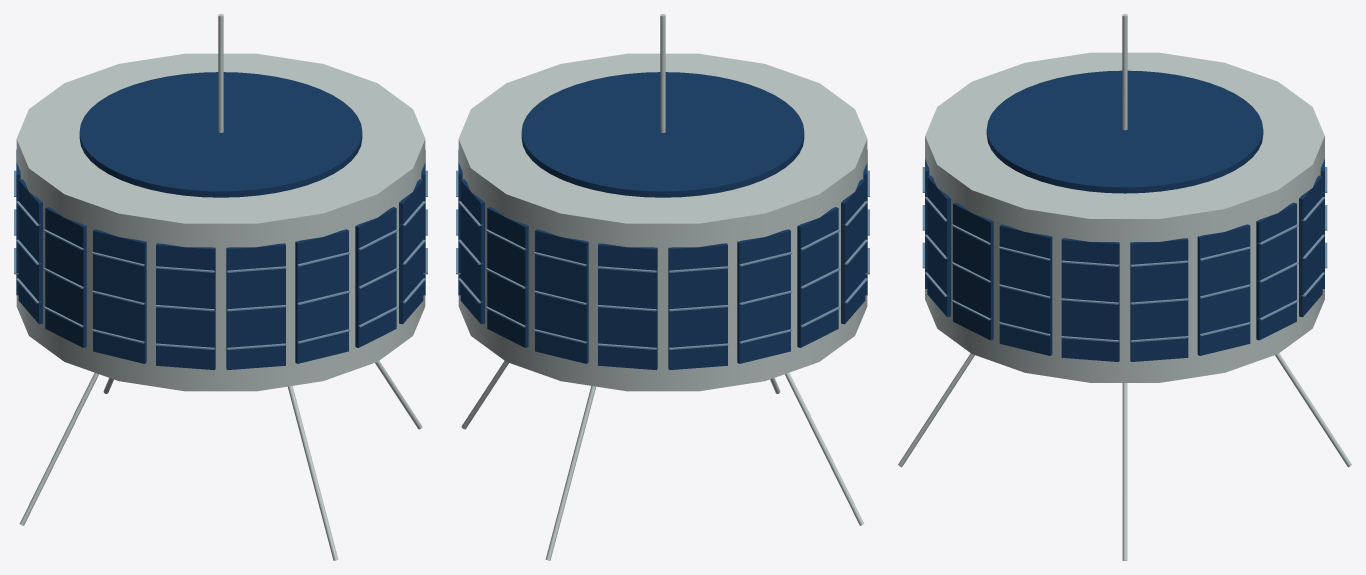
File: tiros-1.glb
3 views of the same model, side by side, from view 1: azimuth 30°, elevation 25°; view 2: azimuth 150°, elevation 25°; view 3: azimuth 270°, elevation 25° (orthographic). The views are drawn at different scales.
Parts seen in each view (by area): view 1: service, body, antenna; view 2: service, body, antenna; view 3: service, body, antenna.
Part boxes in pixels (x1,y1,x2,y2): service: [14, 72, 427, 370]; body: [16, 53, 425, 391]; antenna: [19, 14, 422, 560]; service: [456, 72, 869, 370]; body: [458, 53, 867, 391]; antenna: [461, 14, 864, 560]; service: [922, 70, 1327, 361]; body: [925, 52, 1324, 382]; antenna: [898, 14, 1351, 560].
Bounding box in the file's own units: 2.72 × 2.99 × 2.73.
